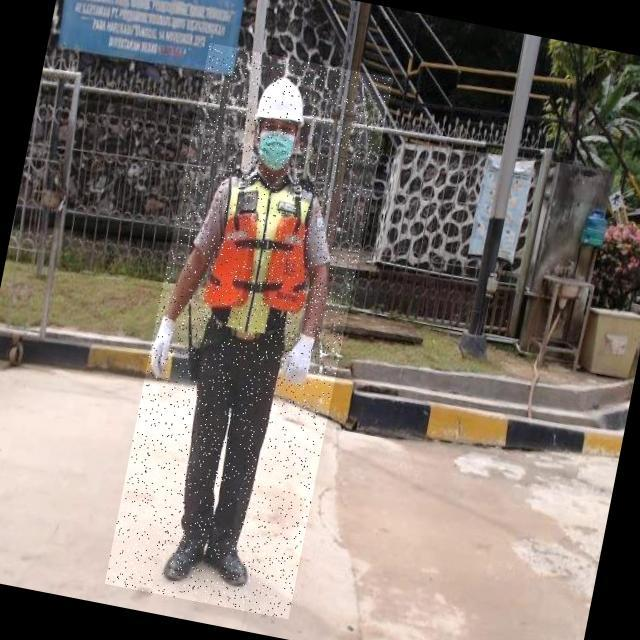Helmet: (249, 72, 316, 129)
Human: (105, 43, 394, 620)
Safety Boot: (198, 534, 258, 595), (161, 528, 210, 591)
Safety Vest: (199, 168, 327, 345)
